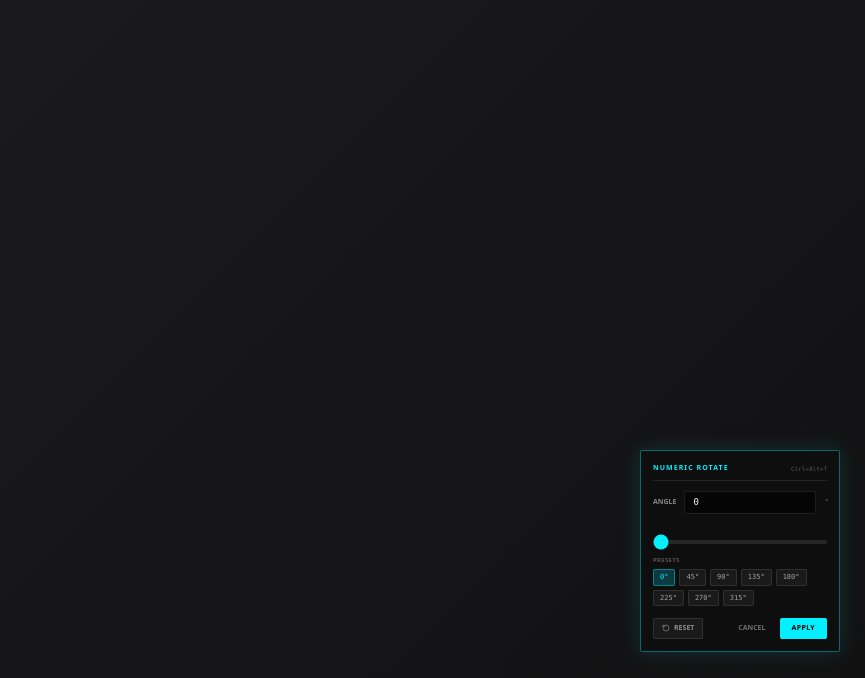
Test: NumericRotatePopover — presets › should set angle when a preset is clicked
Click the button "90°": (723, 577) [710,569,737,586]
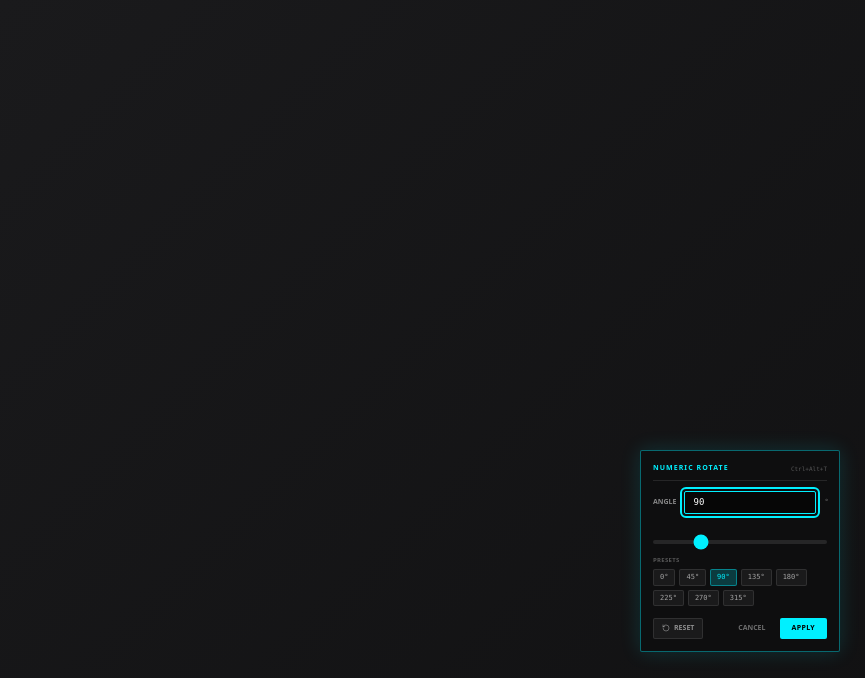
Check: the field named "Rotation angle in degrees" holds "90", box [684,490,816,514]
